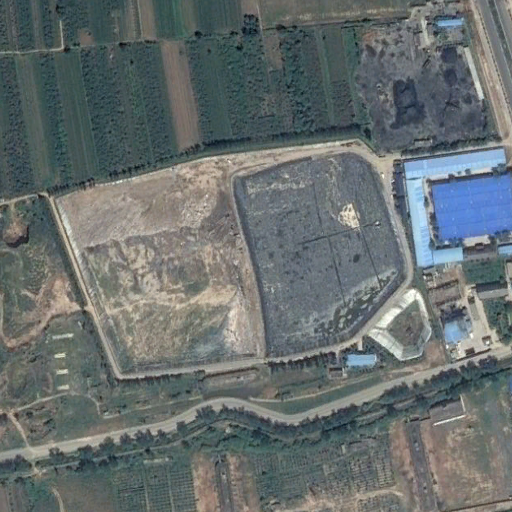lf: (49, 139, 413, 380)
